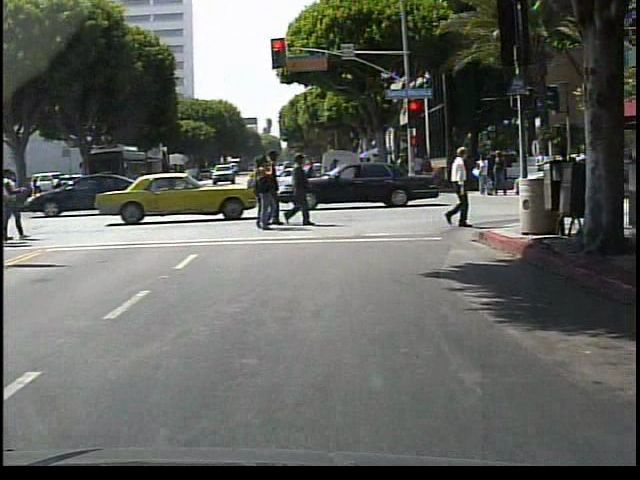person: (440, 141, 482, 234)
